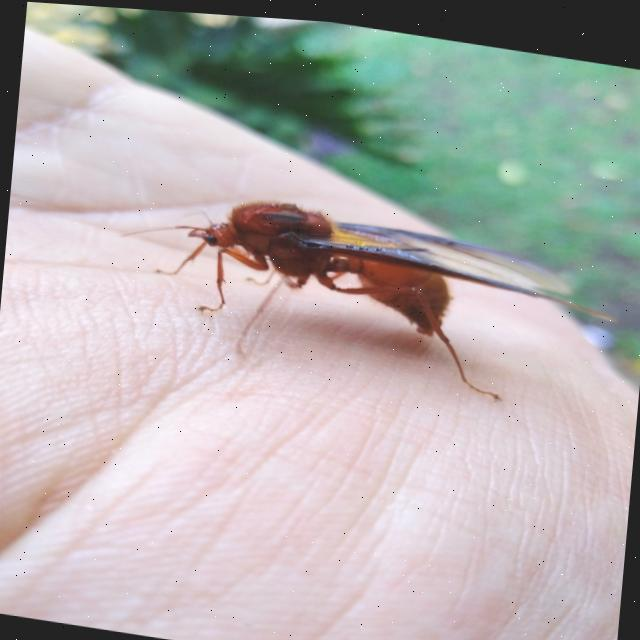Alive-Male-Alate: (112, 174, 622, 414)
